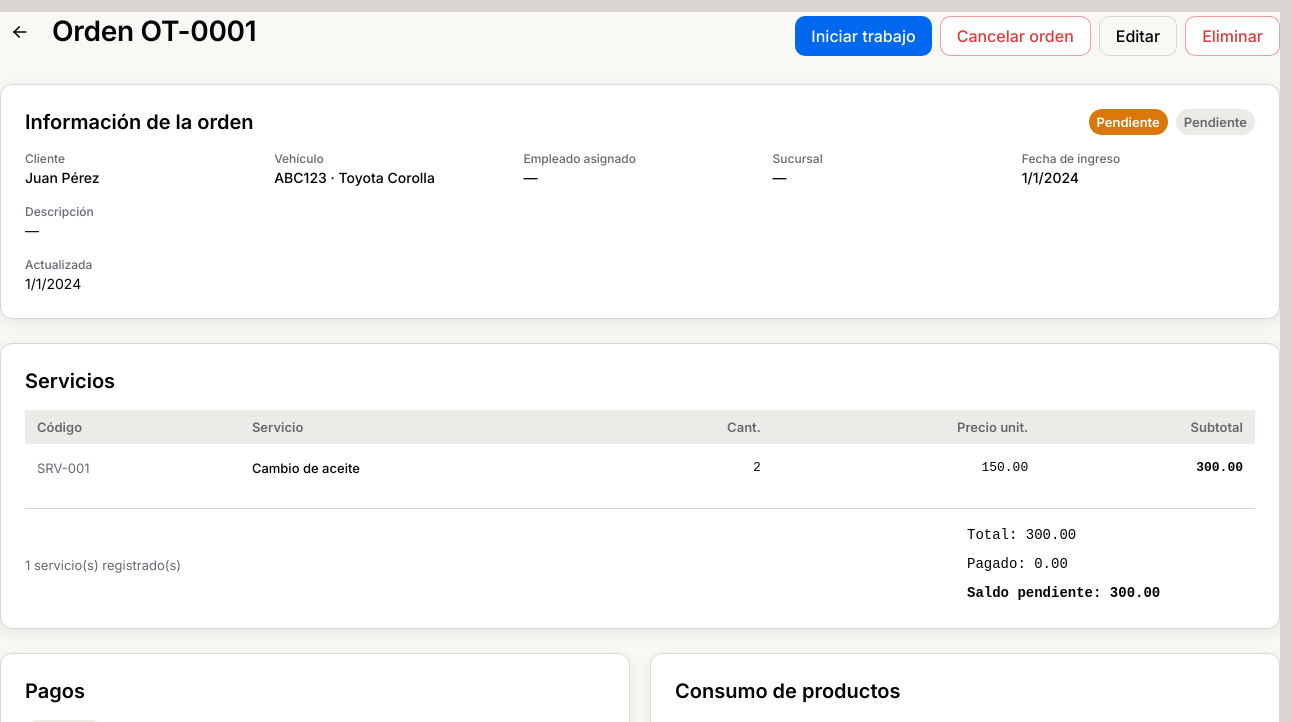
Test case: WorkOrderDetailPage status transitions › S9: INVALID_STATUS_TRANSITION shows the message and refetches the work order
The image size is (1292, 722).
What coordinates should you click on to do the following:
click the button "Iniciar trabajo"
I would click on:
 (864, 36)
Its box is top-left (795, 16), bottom-right (932, 56).
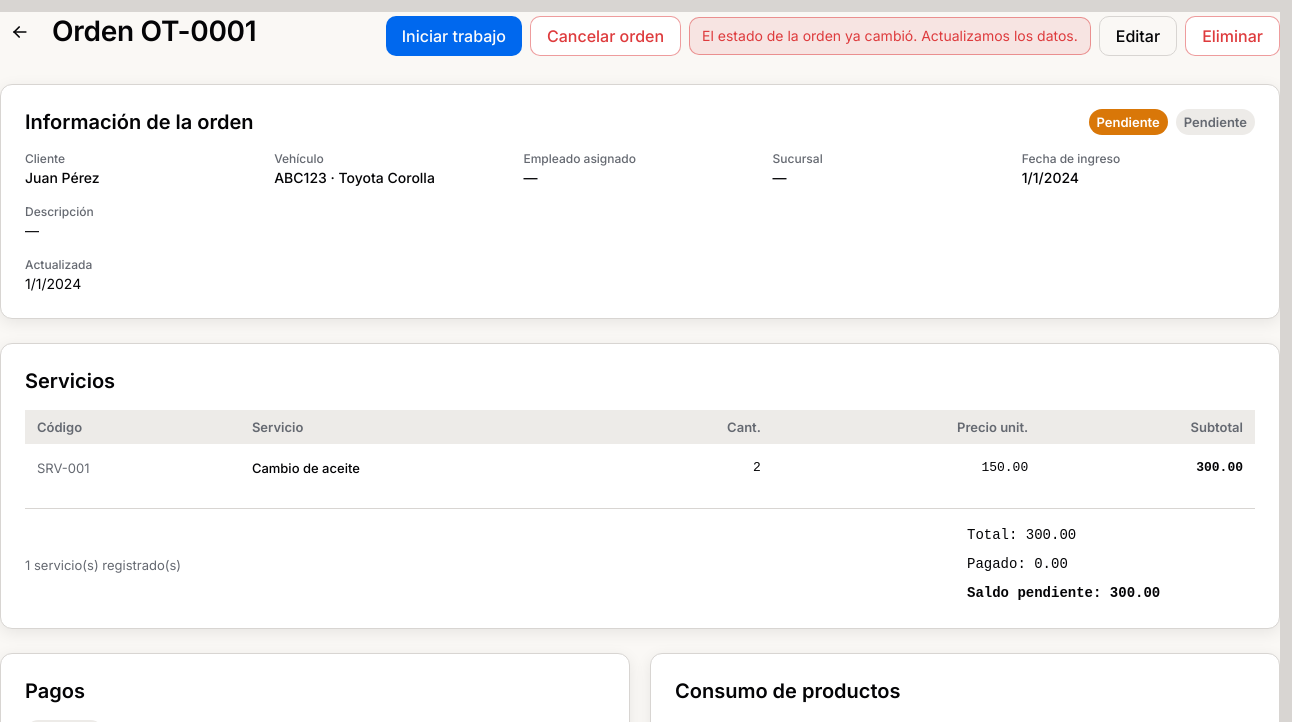
Expected: the message reads "El estado de la orden ya cambió. Actualizamos los datos.", top-left (702, 27), bottom-right (1078, 44)
